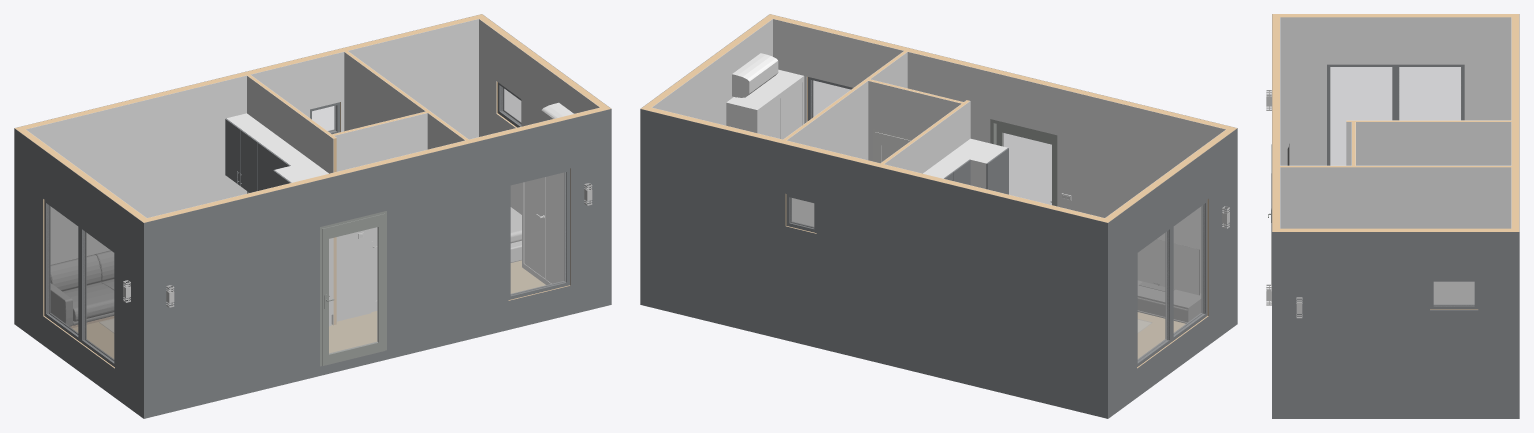
Rendered from Violeta.zeleznova_(3,6x7,5m)_R04.fbx.
3 views of the same model, side by side, from view 1: azimuth 30°, elevation 25°; view 2: azimuth 150°, elevation 25°; view 3: azimuth 270°, elevation 25° (orthographic). The views are drawn at different scales.
Parts seen in each view (by area): view 1: IfcWall/Part:2319977, IfcWall/Part:2319982, IfcWall/Part:2347281, IfcDoor/Lauko durys:1000x2100 (dešininės):2303655, IfcWindow/Langai:1000 x 1800 (kairinis):2323088, IfcWall/Part:2319979, IfcWall/Part:2319970, IfcFurnishingElement/Cabinet_-_Storage:1300 x 500 x 2100mm:2, IfcWindow/Langai:1000 x 1800:2317786, IfcWindow/Langai:1000 x 1800 (dešininis):2376220, IfcFurnishingElement/Bolia - North Seater Sofa:2 1/2 Seater:, IfcWall/Part:2321694 (+15 smaller); view 2: IfcWall/Part:2319983, IfcWall/Part:2319976, IfcWall/Part:2347281, IfcWindow/Langai:1000 x 1800 (dešininis):2376220, IfcWindow/Langai:1000 x 1800:2317786, IfcWall/Part:2319979, IfcDoor/Lauko durys:1000x2100 (dešininės):2303655, IfcWall/Part:2381649, IfcFurnishingElement/Cabinet_-_Storage:1300 x 500 x 2100mm:2, IfcWall/Part:2319971, IfcWall/Part:2321694, IfcBuildingElementProxy/TV Sony1:TV Sony 2:2319310 (+13 smaller); view 3: IfcWall/Part:2319980, IfcWall/Part:2347280, IfcWall/Part:2319967, IfcWall/Part:2376719, IfcWindow/Langai:1000 x 1800 (dešininis):2376220, IfcWindow/Langai:1000 x 1800:2317786, IfcWall/Part:2319984, IfcWall/Part:2319978, IfcWindow/Langai:500 x 700:2380188, IfcDoor/Vidaus durys:800x2100mm (kairinės):2324605, IfcWall/Part:2319981, IfcWall/Part:2347282 (+4 smaller).
Part boxes in pixels (<box>): IfcWall/Part:2319977: <box>143,109,611,418</box>; IfcWall/Part:2319982: <box>26,19,478,264</box>; IfcWall/Part:2347281: <box>14,128,143,418</box>; IfcDoor/Lauko durys:1000x2100 (dešininės):2303655: <box>320,211,386,366</box>; IfcWindow/Langai:1000 x 1800 (kairinis):2323088: <box>508,168,569,300</box>; IfcWall/Part:2319979: <box>479,19,599,214</box>; IfcWall/Part:2319970: <box>334,113,427,321</box>; IfcFurnishingElement/Cabinet_-_Storage:1300 x 500 x 2100mm:2: <box>522,172,564,284</box>; IfcWindow/Langai:1000 x 1800:2317786: <box>44,200,80,341</box>; IfcWindow/Langai:1000 x 1800 (dešininis):2376220: <box>80,226,114,367</box>; IfcFurnishingElement/Bolia - North Seater Sofa:2 1/2 Seater:: <box>50,250,114,328</box>; IfcWall/Part:2321694: <box>247,76,333,324</box>; IfcWall/Part:2319983: <box>640,109,1108,418</box>; IfcWall/Part:2319976: <box>773,19,1225,293</box>; IfcWall/Part:2347281: <box>1108,128,1237,418</box>; IfcWindow/Langai:1000 x 1800 (dešininis):2376220: <box>1171,200,1207,341</box>; IfcWindow/Langai:1000 x 1800:2317786: <box>1137,226,1172,367</box>; IfcWall/Part:2319979: <box>652,19,772,125</box>; IfcDoor/Lauko durys:1000x2100 (dešininės):2303655: <box>990,119,1057,206</box>; IfcWall/Part:2381649: <box>787,81,868,226</box>; IfcFurnishingElement/Cabinet_-_Storage:1300 x 500 x 2100mm:2: <box>726,69,804,139</box>; IfcWall/Part:2319971: <box>868,81,961,161</box>; IfcWall/Part:2321694: <box>884,101,970,173</box>; IfcBuildingElementProxy/TV Sony1:TV Sony 2:2319310: <box>1137,239,1199,295</box>; IfcWall/Part:2319980: <box>1272,232,1519,418</box>; IfcWall/Part:2347280: <box>1280,17,1511,165</box>; IfcWall/Part:2319967: <box>1280,167,1511,304</box>; IfcWall/Part:2376719: <box>1356,122,1511,165</box>; IfcWindow/Langai:1000 x 1800 (dešininis):2376220: <box>1327,64,1396,165</box>; IfcWindow/Langai:1000 x 1800:2317786: <box>1394,64,1464,120</box>; IfcWall/Part:2319984: <box>1511,14,1519,231</box>; IfcWall/Part:2319978: <box>1272,14,1279,228</box>; IfcWindow/Langai:500 x 700:2380188: <box>1430,279,1478,309</box>; IfcDoor/Vidaus durys:800x2100mm (kairinės):2324605: <box>1286,212,1345,228</box>; IfcWall/Part:2319981: <box>1272,228,1511,309</box>; IfcWall/Part:2347282: <box>1280,14,1511,17</box>.
Size of the model in its own units: 766 by 300 by 368.
